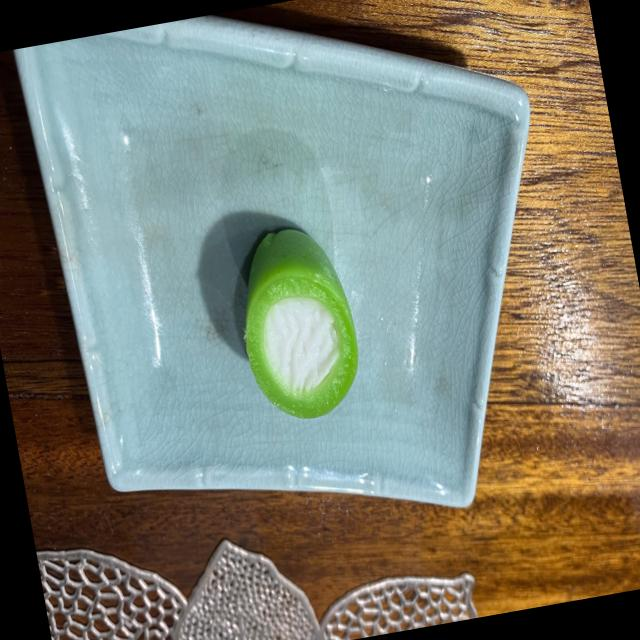nona-manis: (244, 228, 358, 418)
